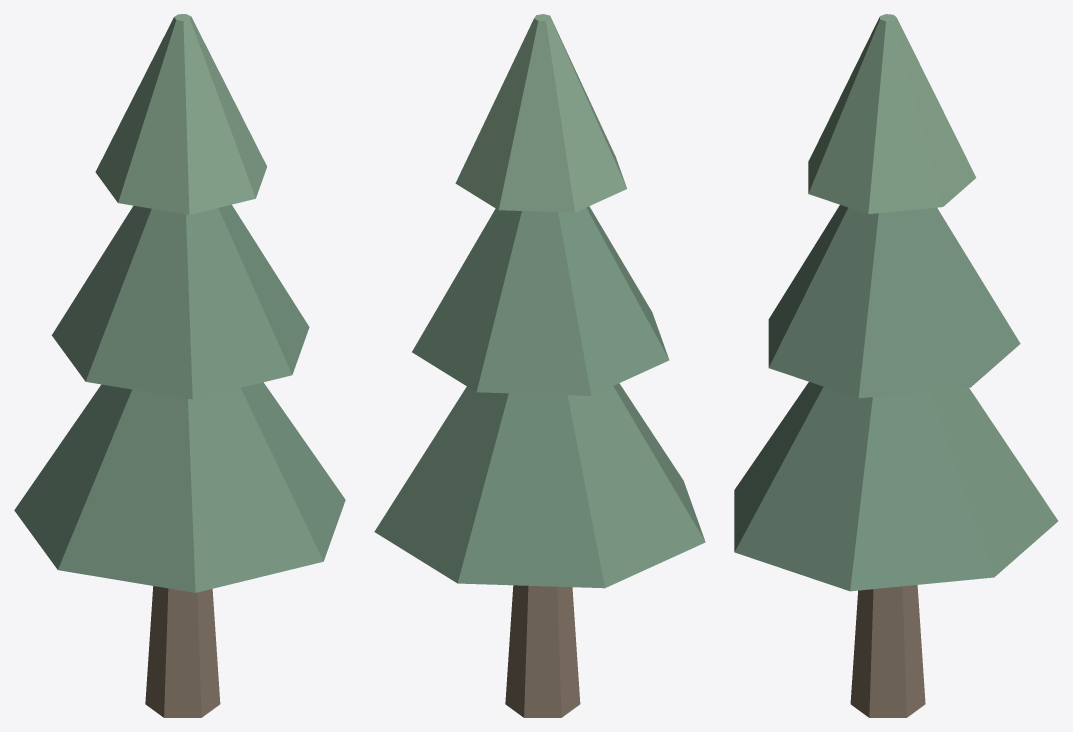
Rendered from tree_pine.glb.
3 views of the same model, side by side, from view 1: azimuth 30°, elevation 25°; view 2: azimuth 150°, elevation 25°; view 3: azimuth 270°, elevation 25° (orthographic).
Parts seen in each view (by area): view 1: tree_pine; view 2: tree_pine; view 3: tree_pine.
Part boxes in pixels (box(x1,y1,x2,y2)): tree_pine: box(14, 14, 345, 717); tree_pine: box(374, 14, 705, 717); tree_pine: box(734, 14, 1058, 717).
Bounding box in the file's own units: 0.2632 × 0.6 × 0.2566.
